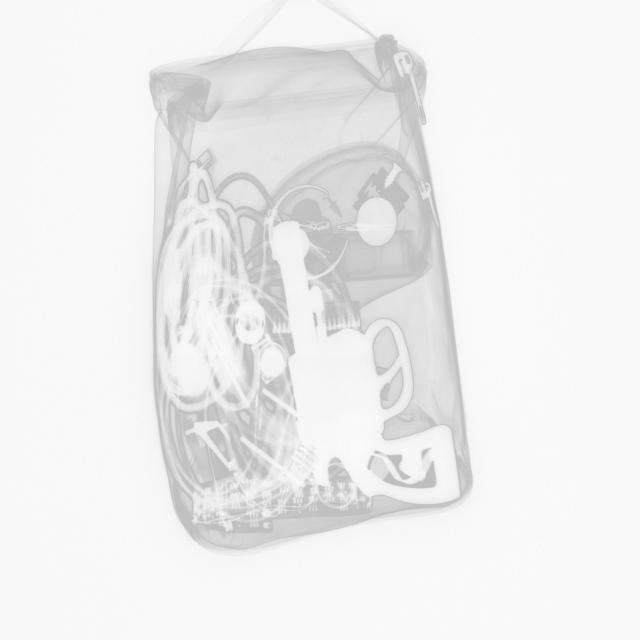pistol: (270, 222, 462, 504)
